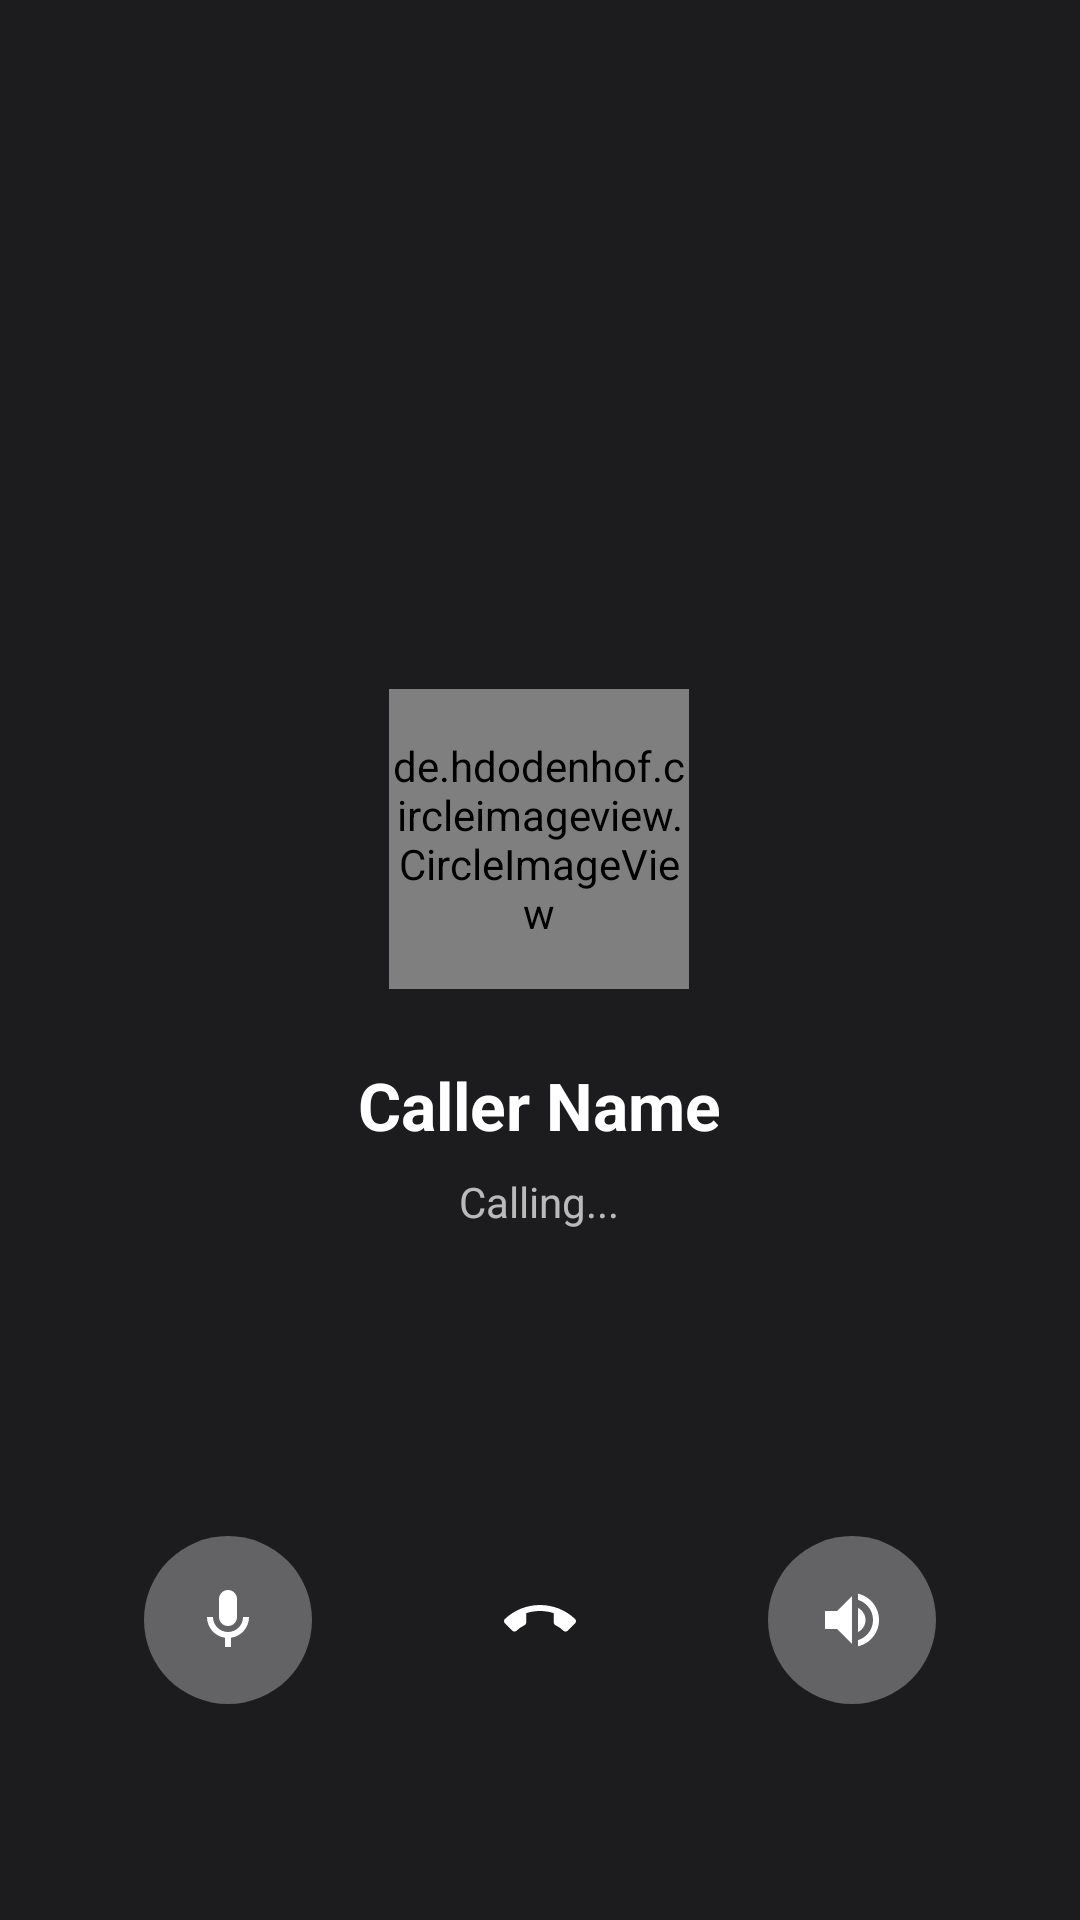

Locate icon controls on the screen. Image size 1080 × 1920, boxes as bbox=[x1, y1, x2, y2].
End Call: bbox=[504, 1605, 576, 1632]
Mute: bbox=[144, 1536, 312, 1704]
Speaker: bbox=[768, 1536, 936, 1704]
